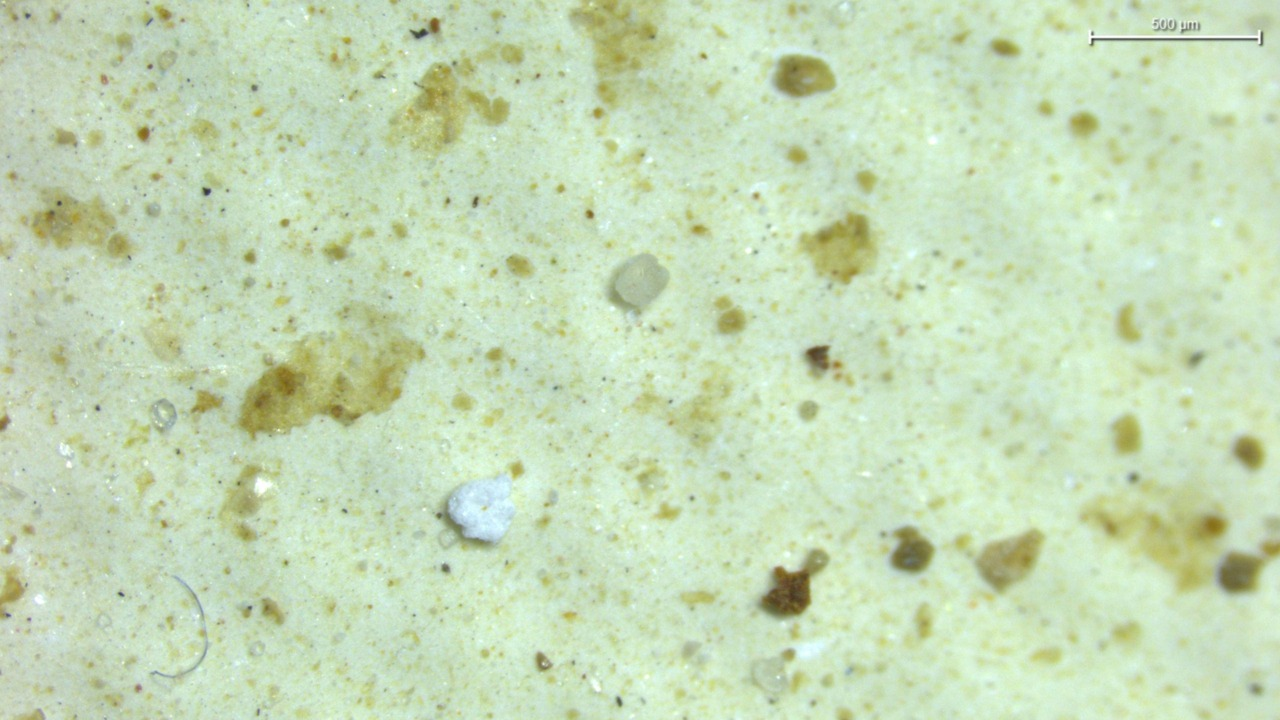microplastic_fragment: (448, 475, 515, 543), (613, 253, 669, 309), (151, 399, 178, 432)
